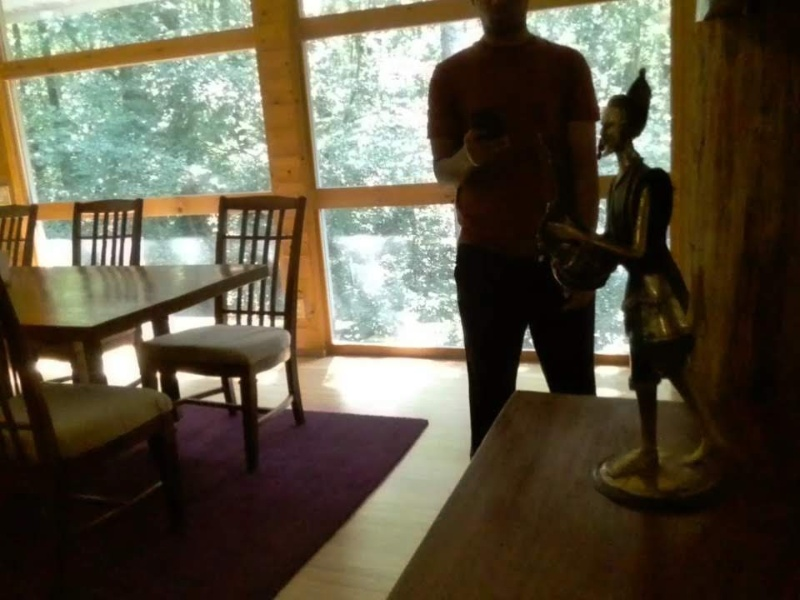nihad: (422, 1, 611, 484)
